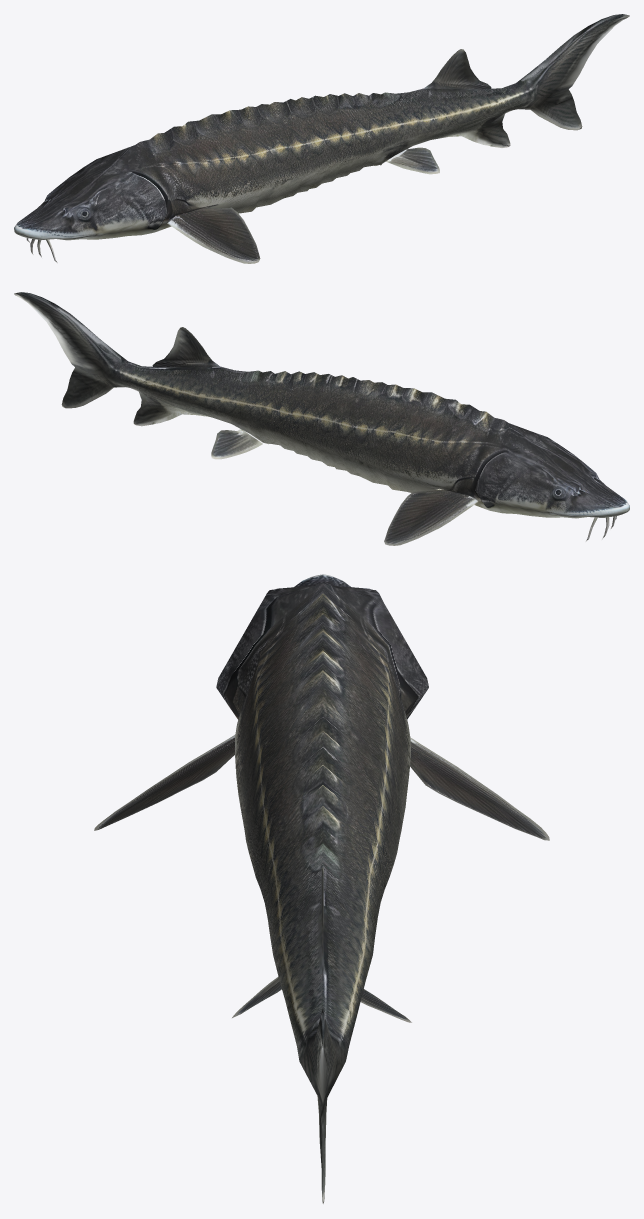
Rendered from sturgeon.glb.
The picture shows the model from 3 angles, top to bottom: view 1: azimuth 30°, elevation 25°; view 2: azimuth 150°, elevation 25°; view 3: azimuth 270°, elevation 25°; orthographic projection. The views are drawn at different scales.
Visible parts, largest first — view 1: tripo_node_b6c3b328-474a-47a3-ad3e-681899a2d93b; view 2: tripo_node_b6c3b328-474a-47a3-ad3e-681899a2d93b; view 3: tripo_node_b6c3b328-474a-47a3-ad3e-681899a2d93b.
Part boxes in pixels (x1,y1,x2,y2): tripo_node_b6c3b328-474a-47a3-ad3e-681899a2d93b: [14, 14, 629, 263]; tripo_node_b6c3b328-474a-47a3-ad3e-681899a2d93b: [14, 292, 629, 545]; tripo_node_b6c3b328-474a-47a3-ad3e-681899a2d93b: [94, 574, 549, 1203].
Bounding box in the file's own units: 0.9995 × 0.1753 × 0.3208.
Materials: 1 (1 with a texture image).
